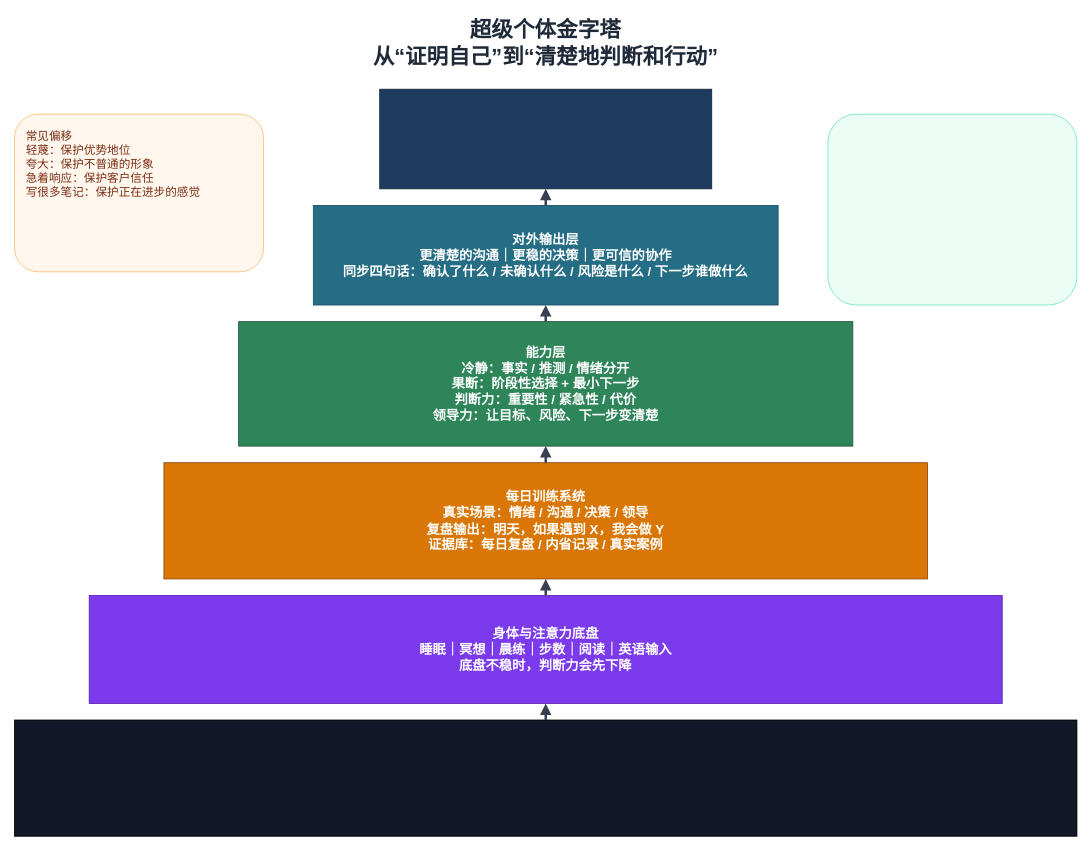
The diagram is 1091 pixels wide and 851 high, and some of its shapes have lost their labels. The box of each missing label's shape, as (x1, y1, x2, y2) in pixels:
决策路线 目标是什么 事实是什么 哪些只是推测 我在怕什么 真实紧急程度 选项的收益和代价 最小下一步和对外同步: (827, 113, 1077, 305)
最底层根基 根问题：价值感只能从外部取得 第一触发器：在保护什么？ 核心状态：够了，不靠证明也可以存在: (14, 719, 1077, 836)
顶层目标 冷静 · 果断 · 有判断力 · 有领导力 别人和我协作时，事情变得更清楚、更稳、更可推进: (379, 88, 712, 189)
